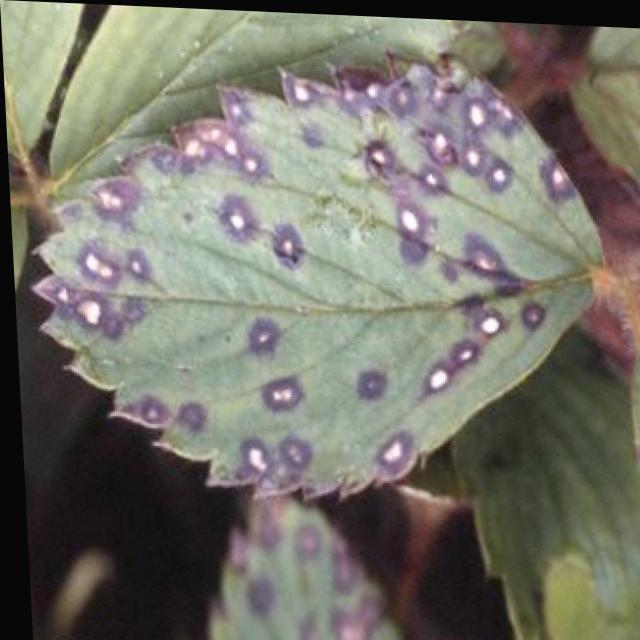Leaf Spot: (24, 44, 604, 502), (44, 4, 461, 191), (196, 491, 400, 640), (564, 21, 640, 205)
